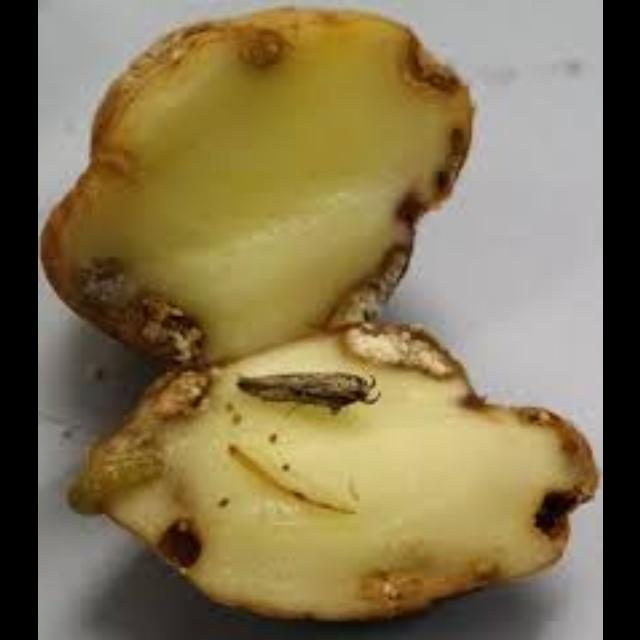Diseased-fungal potato: (74, 320, 602, 640), (43, 0, 494, 356)
